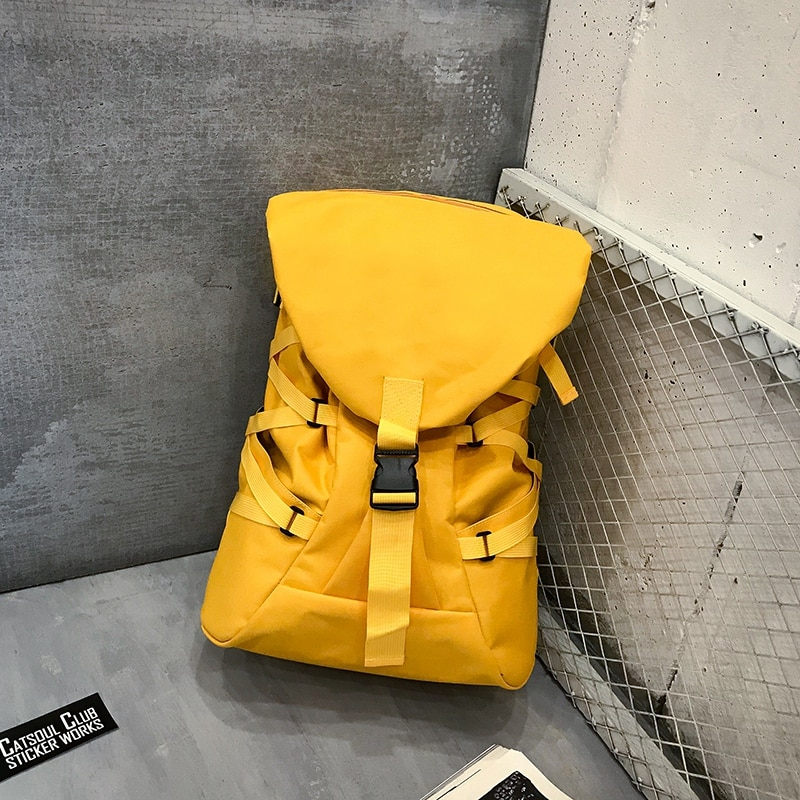Men's Backpacks: (191, 185, 594, 709)
